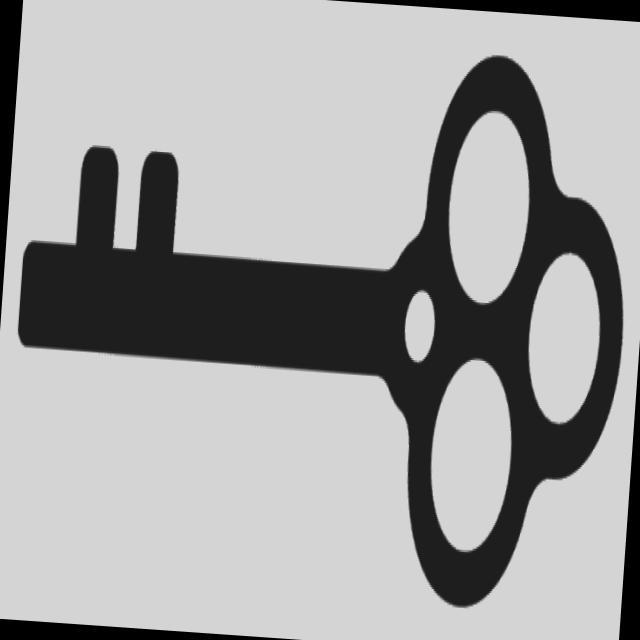key: (1, 10, 640, 630)
